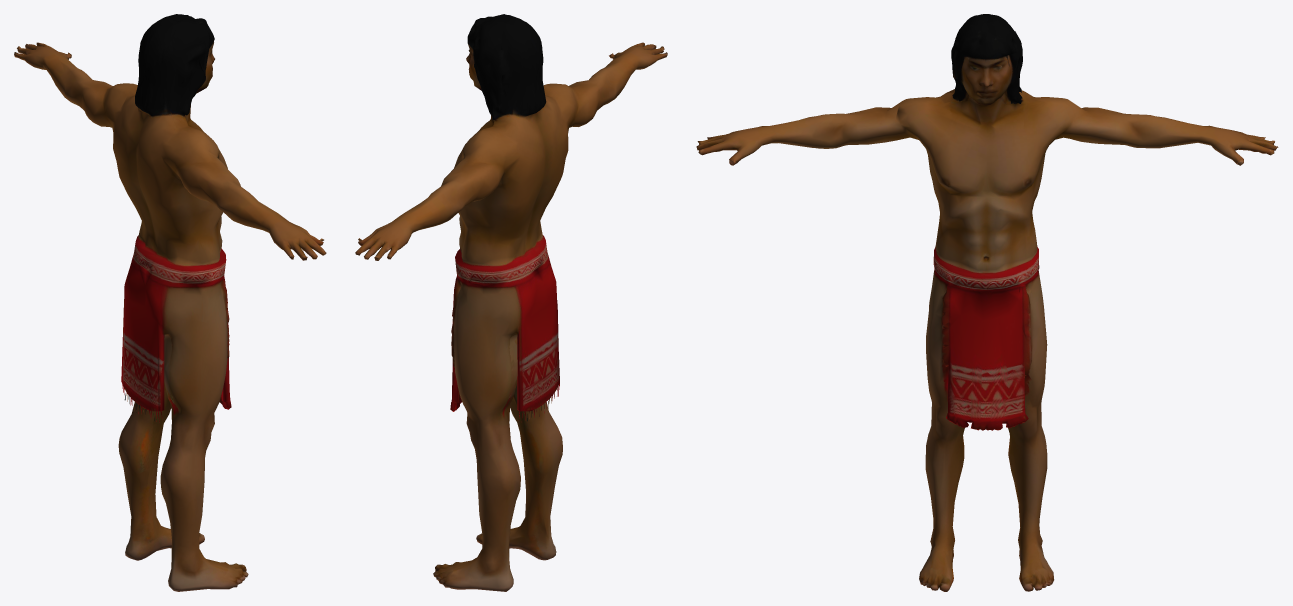
The model's file is middleagednotattoos (1).fbx.
3 renders of one model, left to right at view 1: azimuth 30°, elevation 25°; view 2: azimuth 150°, elevation 25°; view 3: azimuth 270°, elevation 25°, orthographic.
Visible parts, largest first — view 1: tripo_node_7d9cbe20; view 2: tripo_node_7d9cbe20; view 3: tripo_node_7d9cbe20.
Boxes of the visible parts, bbox=[...] form: tripo_node_7d9cbe20: bbox=[14, 14, 326, 591]; tripo_node_7d9cbe20: bbox=[355, 14, 667, 591]; tripo_node_7d9cbe20: bbox=[696, 14, 1278, 591].
Size of the model in its own units: 0.1767 by 1 by 0.9523.
1 material, 1 textured.
